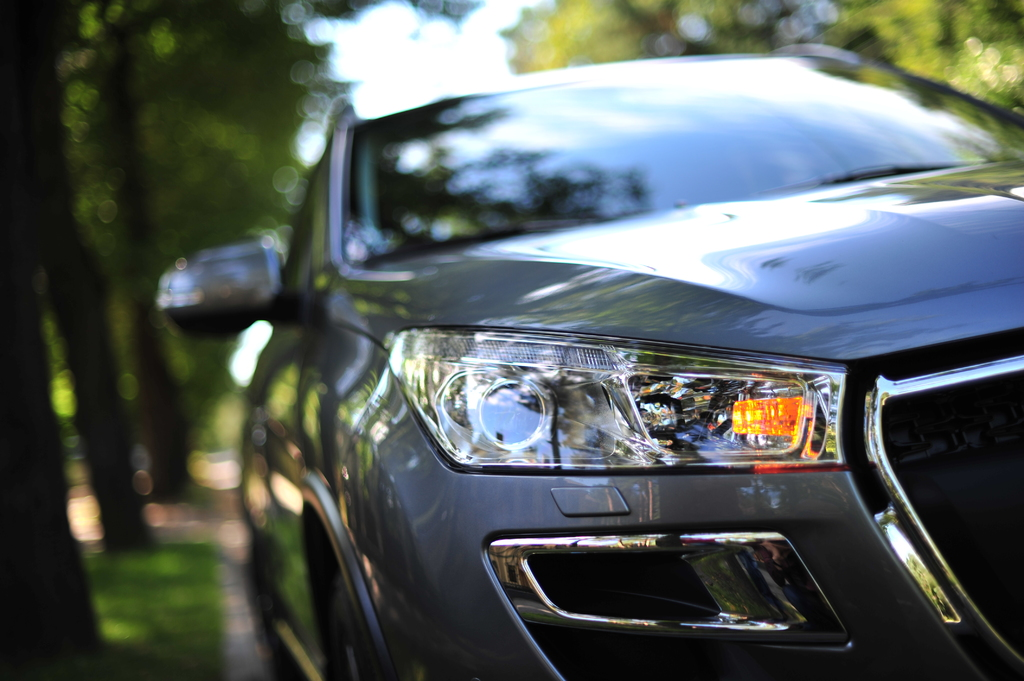Car: (197, 59, 988, 681)
